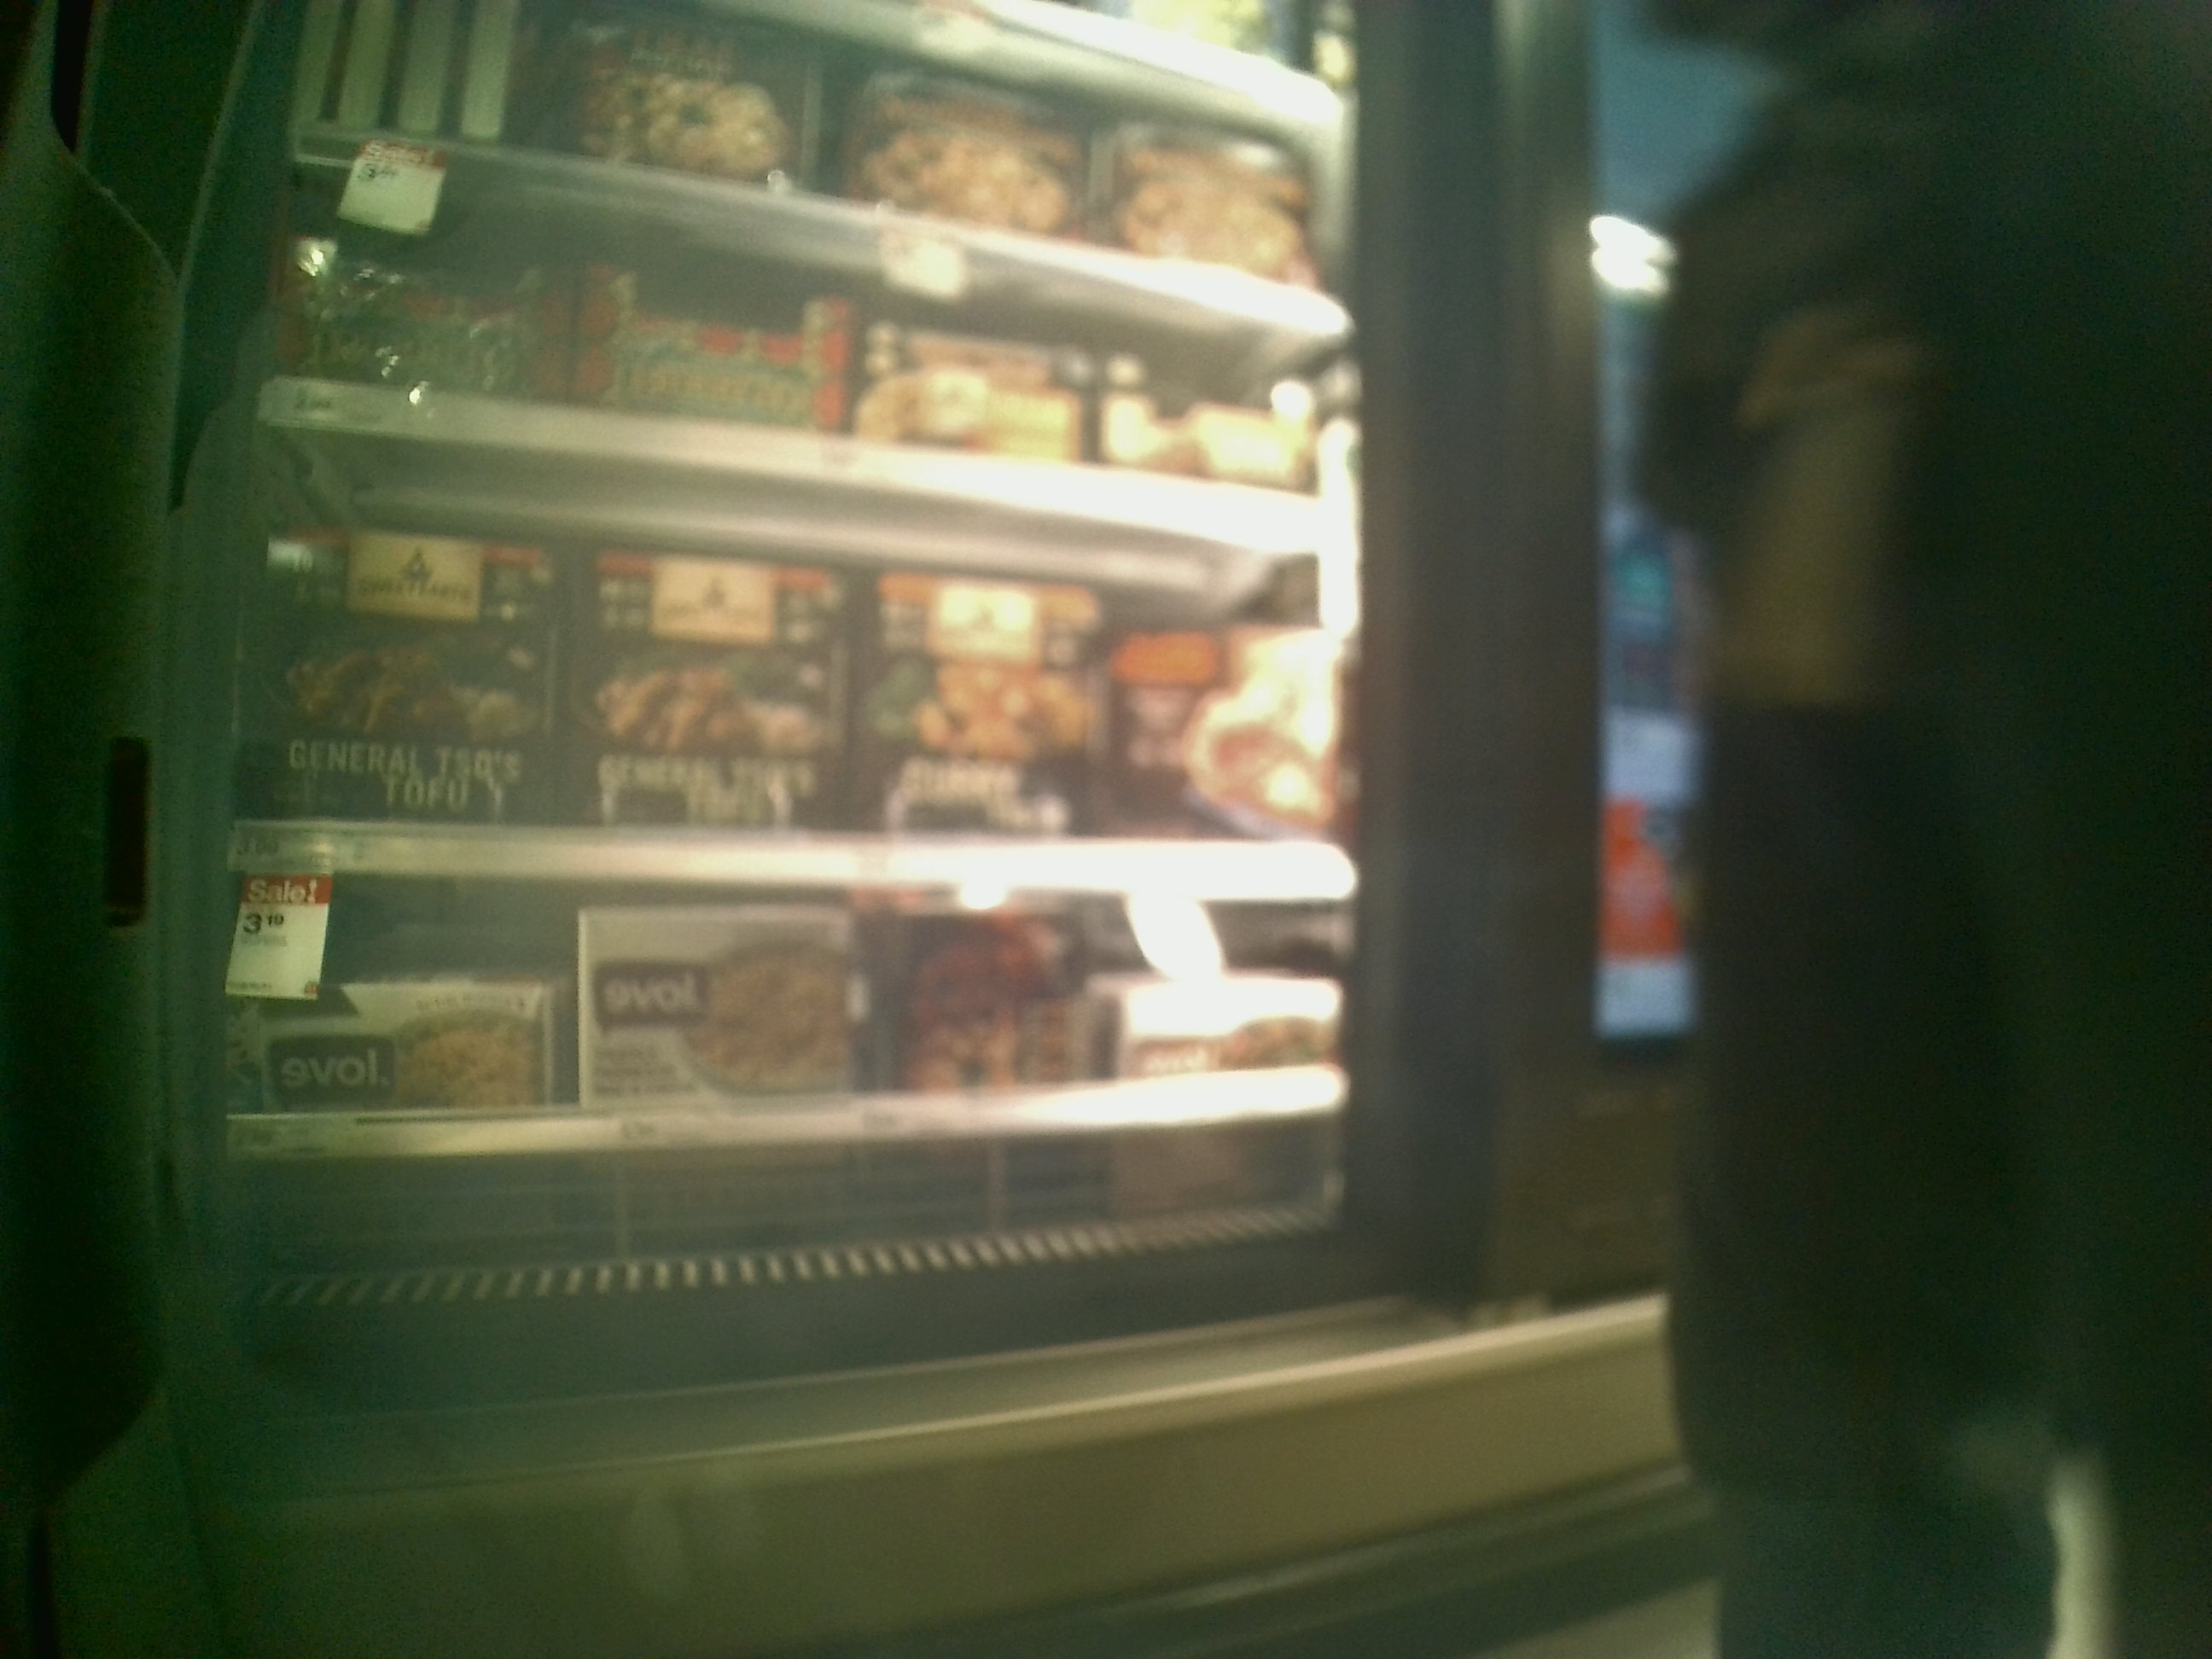frozen-food-shelf: (212, 413, 1395, 910), (200, 918, 1404, 1173)
